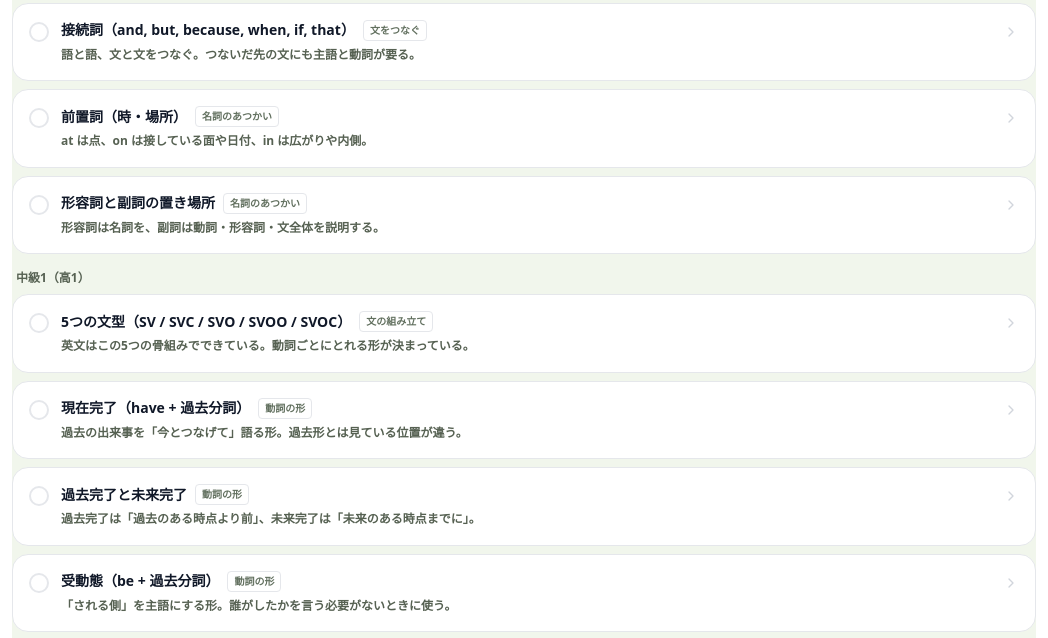
Test: 項目の詳細 › その文型をとる動詞を収録語から引いて見せる
(page scrolled)
Note: 文型14（SVOO）を持つ「5つの文型」の項目
Click the button with id "grammar_topic_g_sentence_patterns".
click(206, 321)  # box [12, 294, 1036, 372]
(page scrolled)
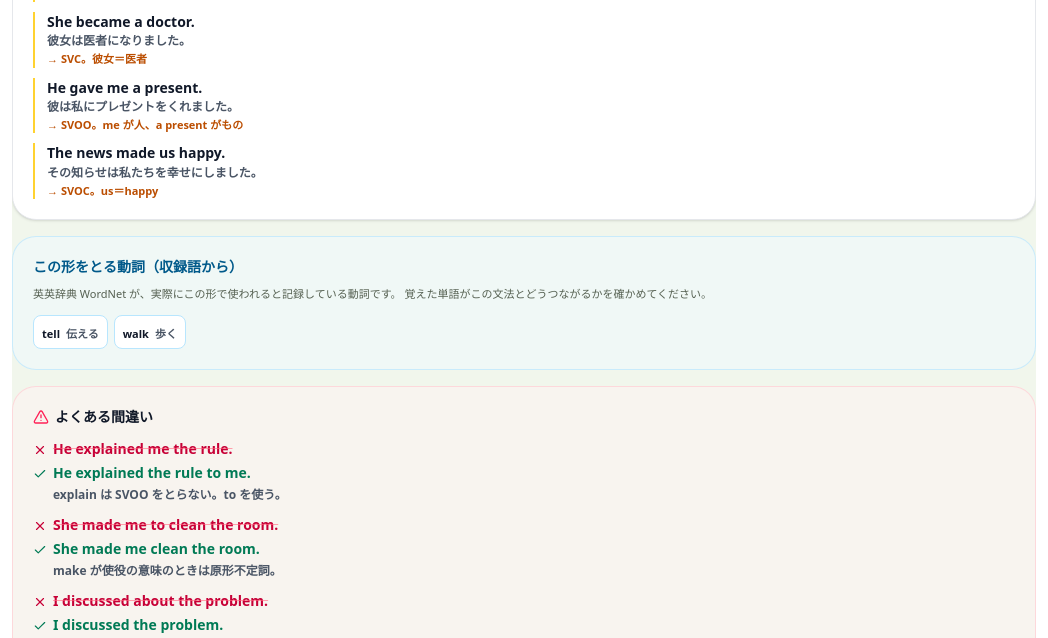
Expected: the text "伝える" is shown, [66, 326, 99, 341]
Result: the text "tell" is shown at [42, 326, 60, 341]
